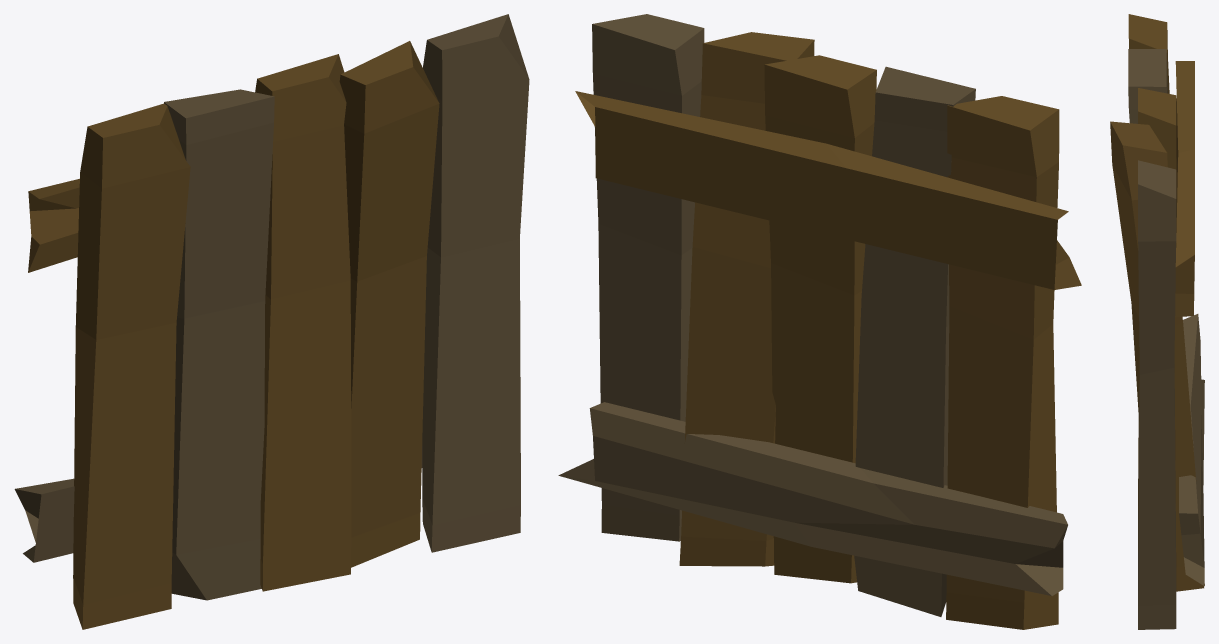
The model's file is enchantedforest_window_1_offset.fbx.
3 views of the same model, side by side, from view 1: azimuth 30°, elevation 25°; view 2: azimuth 150°, elevation 25°; view 3: azimuth 270°, elevation 25° (orthographic). The views are drawn at different scales.
Parts seen in each view (by area): view 1: Cube.075; view 2: Cube.075; view 3: Cube.075.
Part boxes in pixels (bbox=[...]): Cube.075: bbox=[14, 14, 529, 629]; Cube.075: bbox=[558, 14, 1081, 629]; Cube.075: bbox=[1110, 14, 1204, 629].
Bounding box in the file's own units: 1.25 × 1.21 × 0.2366.
